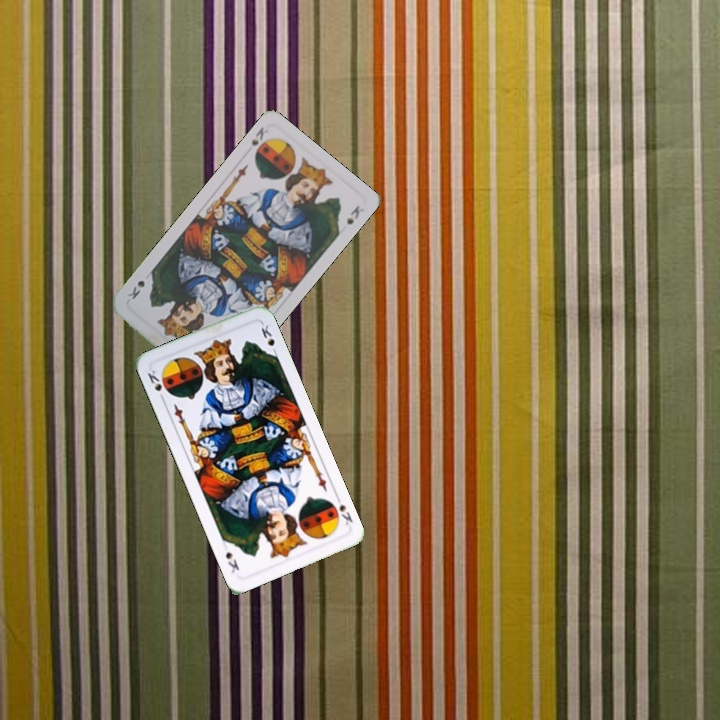SK: (143, 366, 167, 404), (247, 123, 271, 159), (331, 491, 355, 527)
